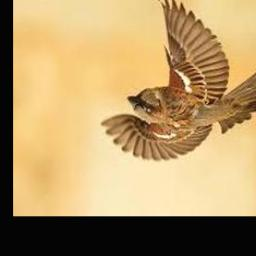Sparrow: (100, 0, 256, 162)
